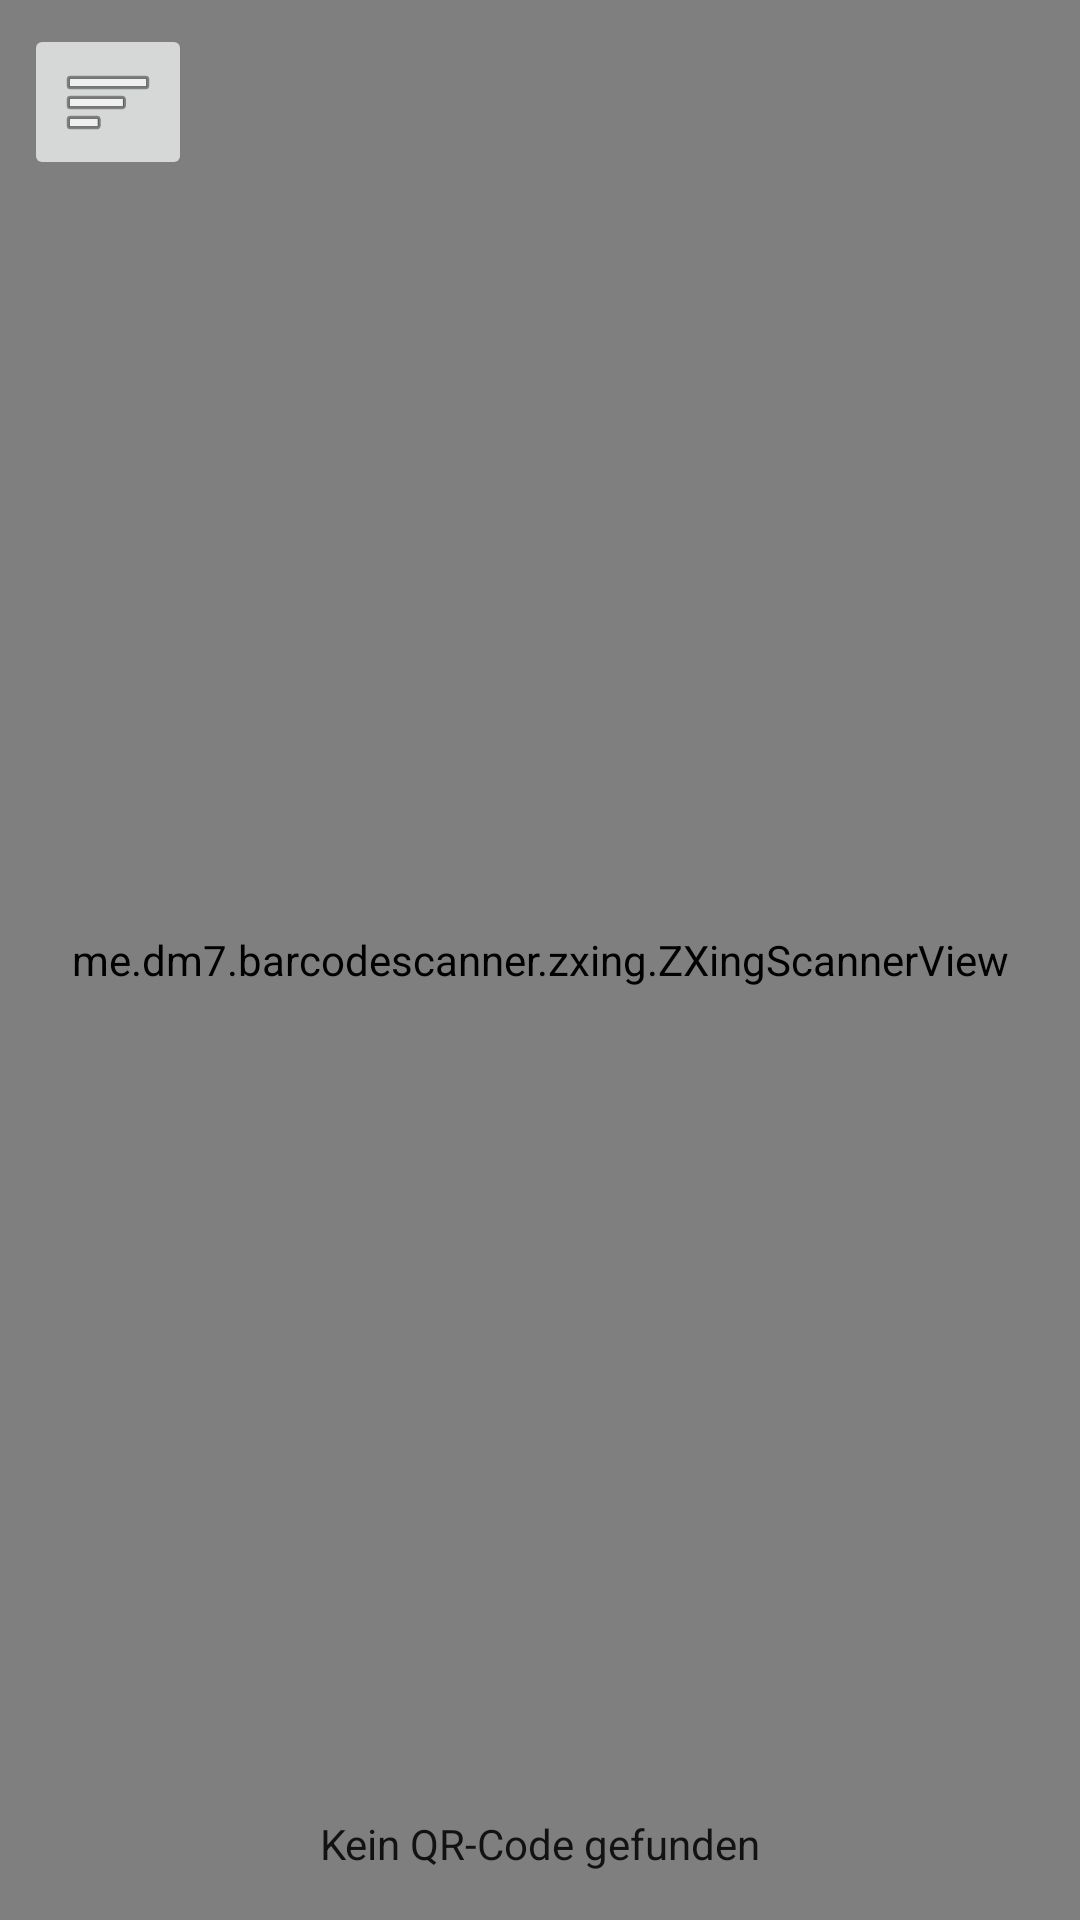

Icons on this 1080px×1920px Android screen, each with its box as region(x1, y1, x2, y2):
Menu Icon: region(36, 42, 180, 162)
